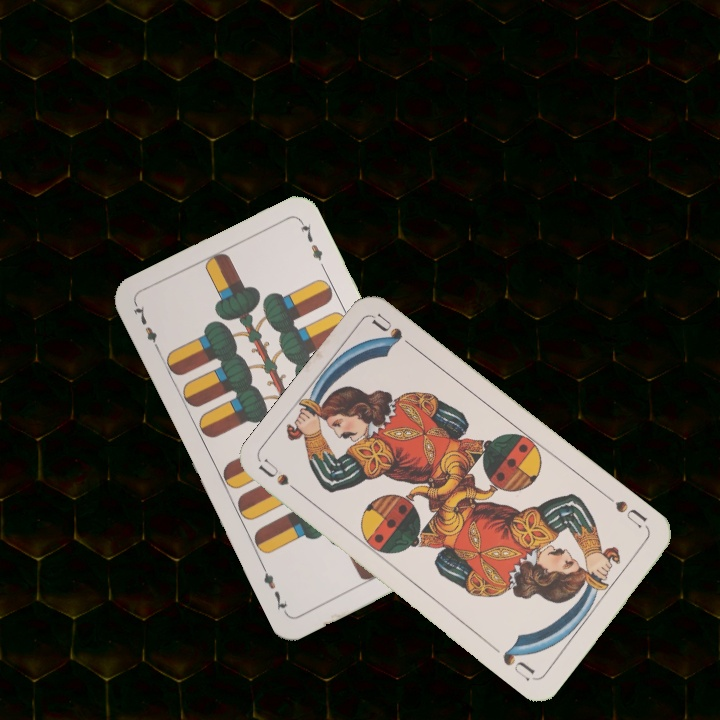E7: (129, 300, 163, 356)
SU: (256, 455, 309, 501), (601, 491, 652, 532)
